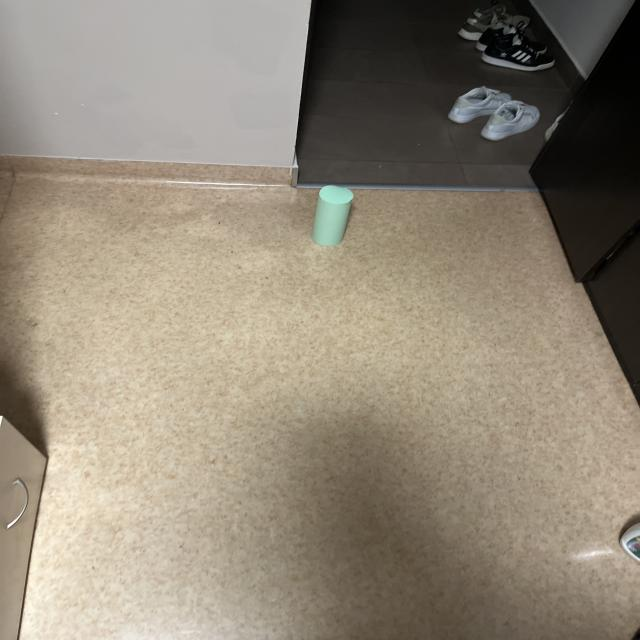meta: (312, 185, 353, 246)
